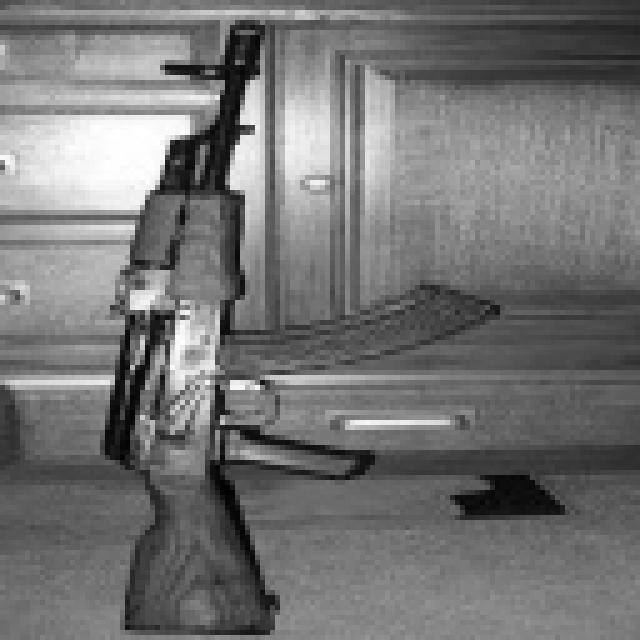Rifle: (55, 10, 515, 640)
